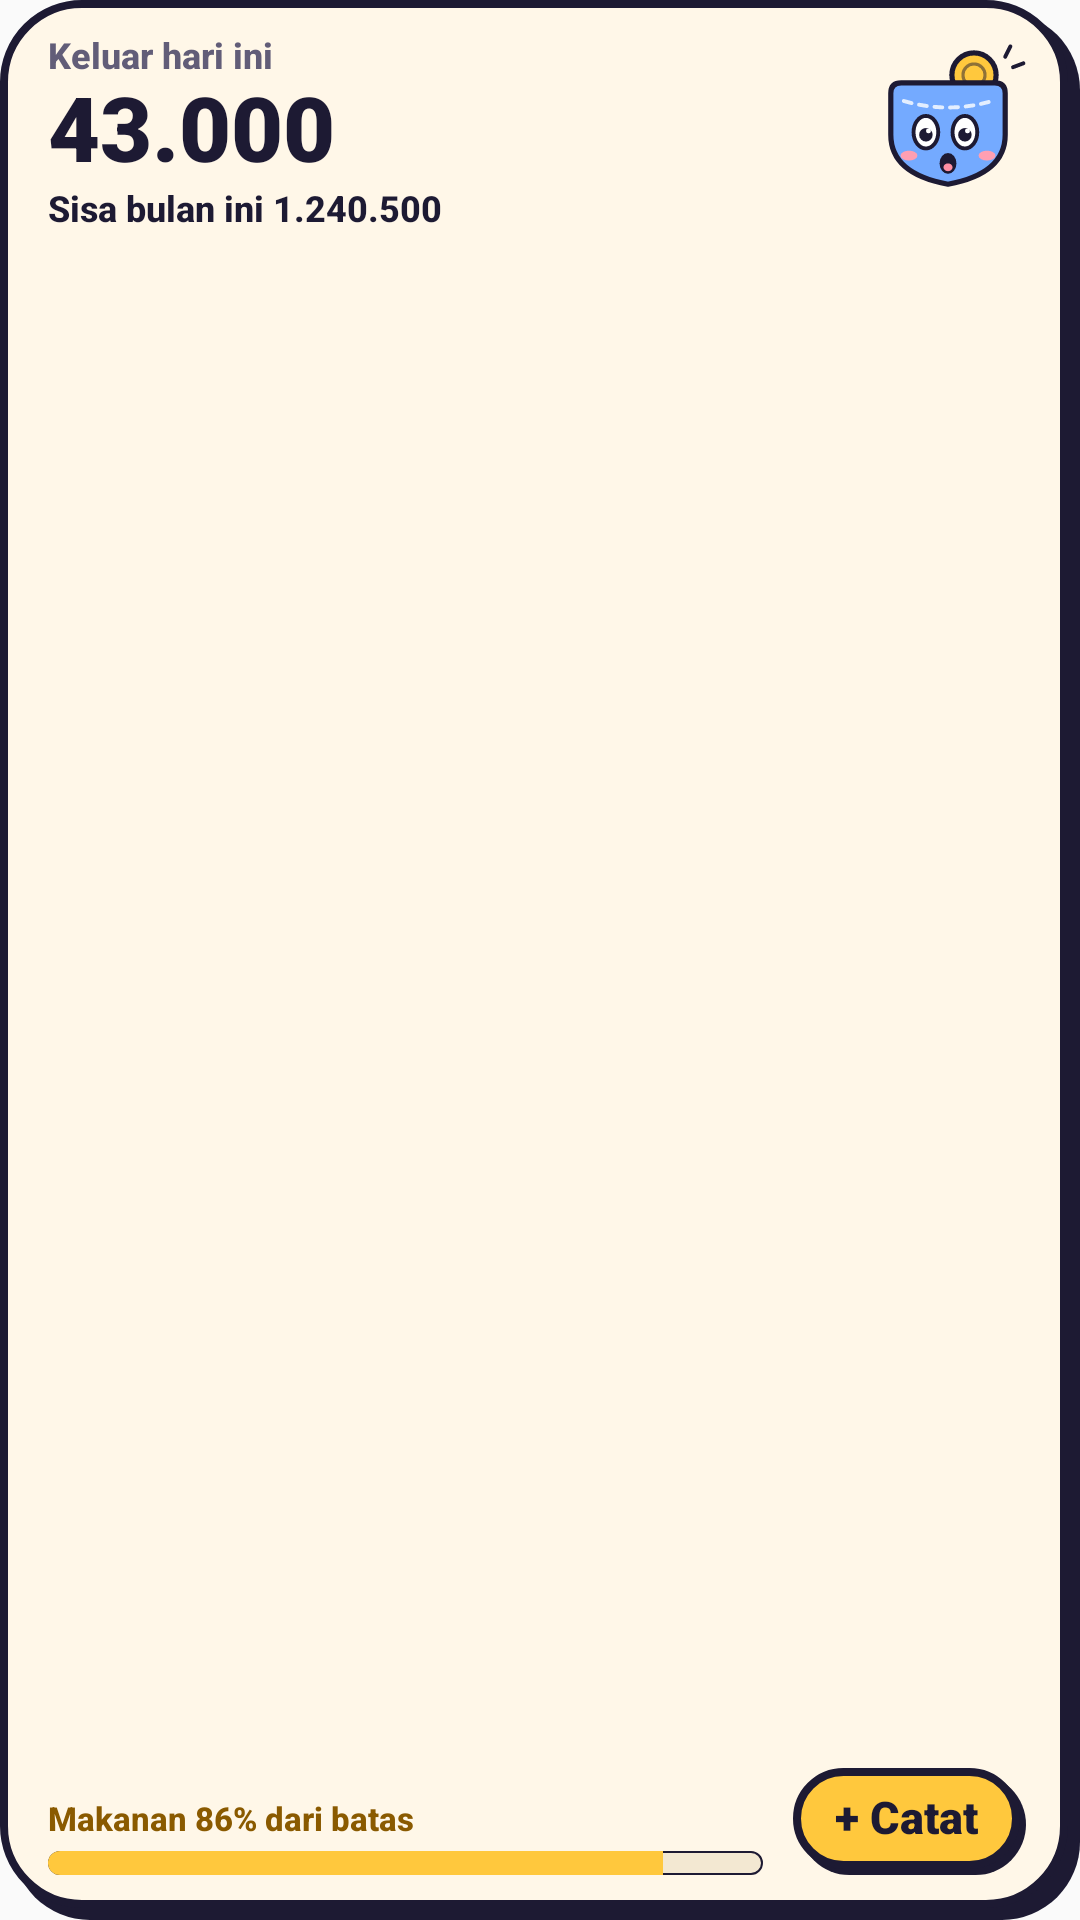

Named icons in this screenshot (1080x1920) and their bounding boxes, (x1, y1, x2, y2):
Saku: (888, 44, 1026, 187)
